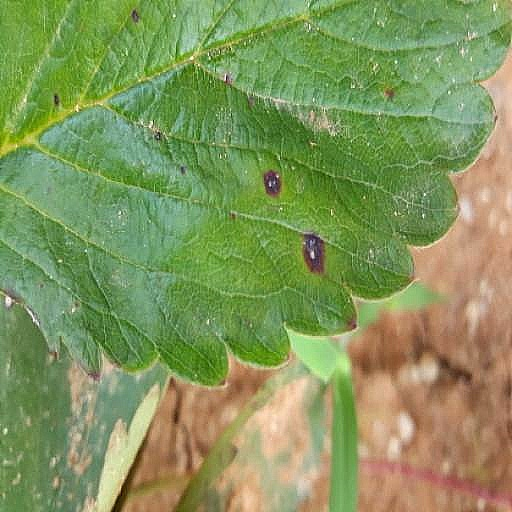Leaf Spot: (0, 124, 511, 511)
